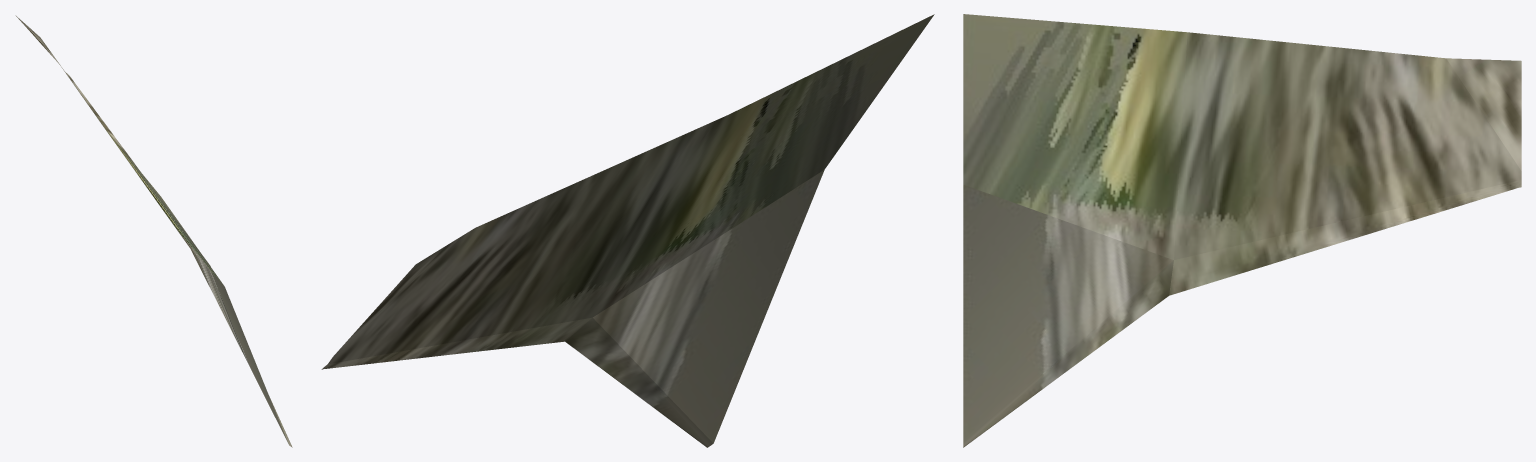
3 renders of one model, left to right at view 1: azimuth 30°, elevation 25°; view 2: azimuth 150°, elevation 25°; view 3: azimuth 270°, elevation 25°, orthographic. The views are drawn at different scales.
Size of the model in its own units: 1 by 2.06 by 2.95.
Materials: 1 (1 with a texture image).
